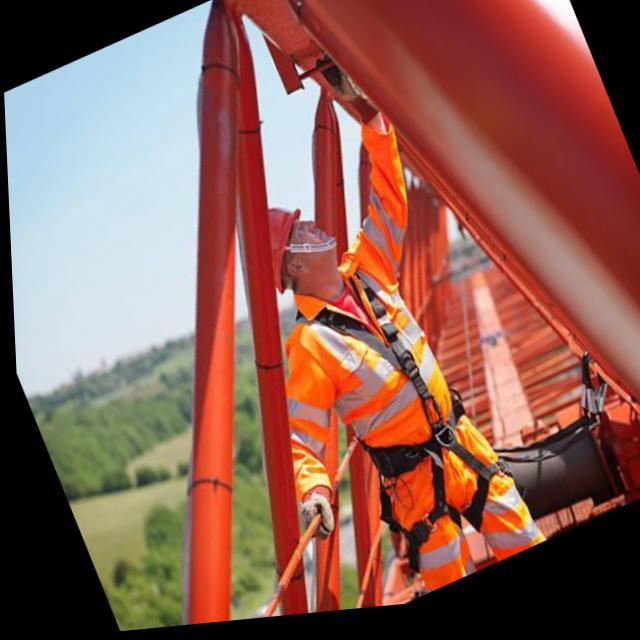belt: (281, 239, 528, 596)
